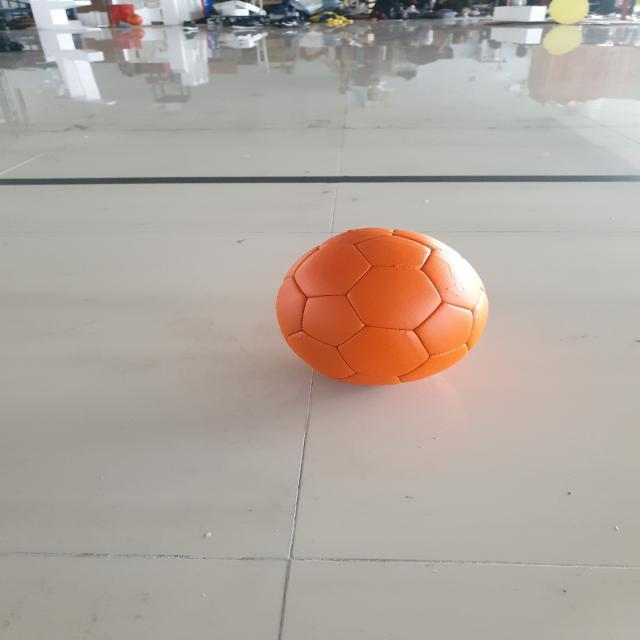bola: (279, 225, 486, 386)
